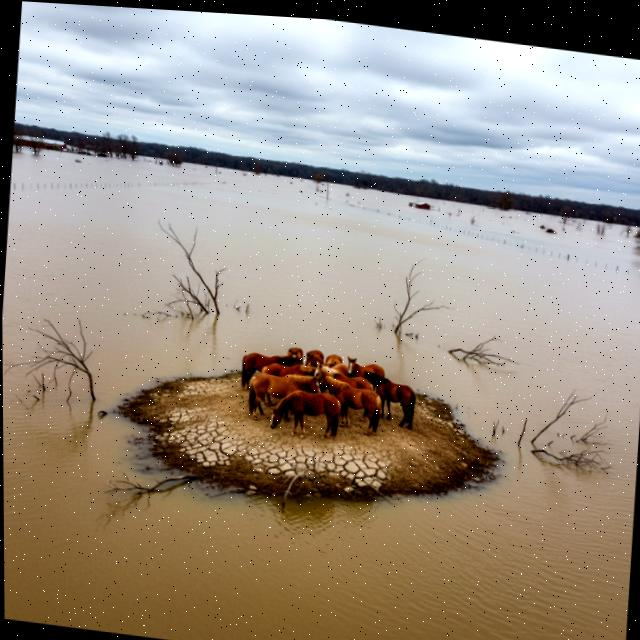horse: (313, 371, 386, 440), (264, 383, 346, 444), (243, 367, 322, 426), (358, 368, 422, 431), (235, 346, 306, 396), (310, 359, 376, 398), (259, 357, 319, 383), (343, 355, 389, 384), (303, 346, 325, 368), (284, 344, 303, 368), (323, 351, 341, 371), (330, 360, 351, 377)
